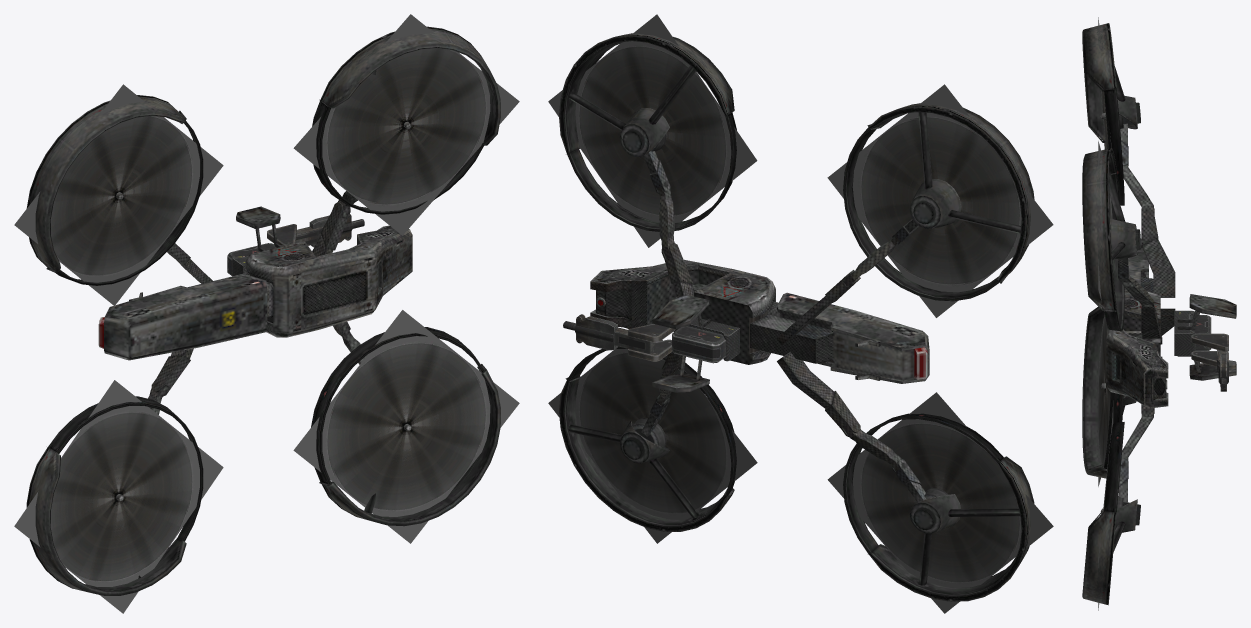
Rendered from veh_t6_drone_quad_rotor_mp_alt_LOD0.obj.
The picture shows the model from 3 angles, left to right: view 1: azimuth 30°, elevation 25°; view 2: azimuth 150°, elevation 25°; view 3: azimuth 270°, elevation 25°; orthographic projection. The views are drawn at different scales.
Parts seen in each view (by area): view 1: mtl_t6_veh_drone_quad_rotor_blades, mtl_t6_veh_drone_quad_rotor_body2, mtl_t6_veh_drone_quad_rotor_gun; view 2: mtl_t6_veh_drone_quad_rotor_blades, mtl_t6_veh_drone_quad_rotor_body2, mtl_t6_veh_drone_quad_rotor_gun; view 3: mtl_t6_veh_drone_quad_rotor_body2, mtl_t6_veh_drone_quad_rotor_gun, mtl_t6_veh_drone_quad_rotor_blades.
Part boxes in pixels (x1,y1,x2,y2): mtl_t6_veh_drone_quad_rotor_blades: (14, 14, 519, 613); mtl_t6_veh_drone_quad_rotor_body2: (26, 26, 500, 595); mtl_t6_veh_drone_quad_rotor_gun: (227, 214, 364, 276); mtl_t6_veh_drone_quad_rotor_blades: (548, 14, 1053, 613); mtl_t6_veh_drone_quad_rotor_body2: (559, 33, 1034, 601); mtl_t6_veh_drone_quad_rotor_gun: (563, 314, 739, 363); mtl_t6_veh_drone_quad_rotor_body2: (1082, 23, 1236, 605); mtl_t6_veh_drone_quad_rotor_gun: (1174, 310, 1228, 391); mtl_t6_veh_drone_quad_rotor_blades: (1098, 17, 1113, 610).
Size of the model in its own units: 100 by 100 by 29.6.
